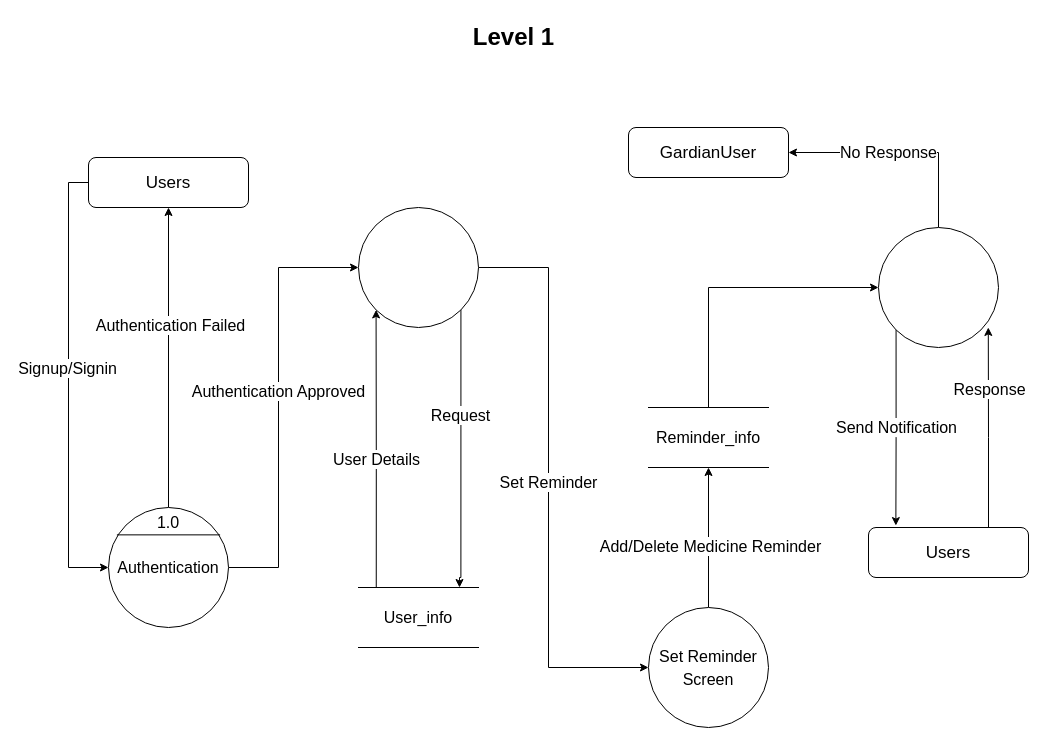
This 1046x745 diagram has some shape labels left out. The shapes that lost their labels are listed below. From the top down, each one's centre as x and y in pixels, then its label:
At (418,267): "User Screen".
At (938,287): "Notification Manager".
